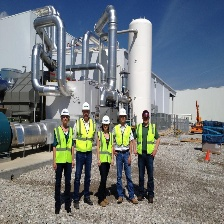helmet: (60, 108, 72, 119), (117, 108, 128, 120), (80, 102, 92, 112), (101, 115, 111, 127)
no-helmet: (141, 110, 151, 119)
person: (53, 108, 75, 215), (72, 102, 94, 208), (136, 108, 160, 205), (115, 108, 135, 205), (96, 113, 114, 208)
vest: (53, 126, 75, 165), (75, 118, 95, 153), (136, 123, 157, 155), (97, 132, 113, 165), (113, 125, 134, 150)
